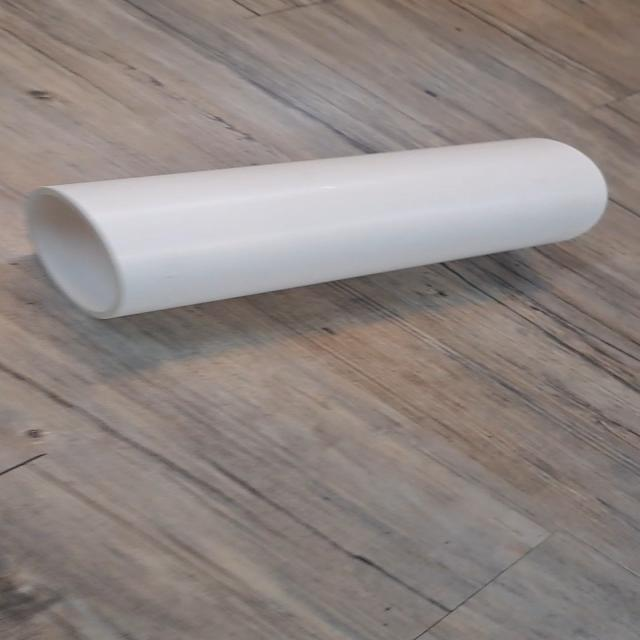CORAL: (4, 120, 639, 344)
